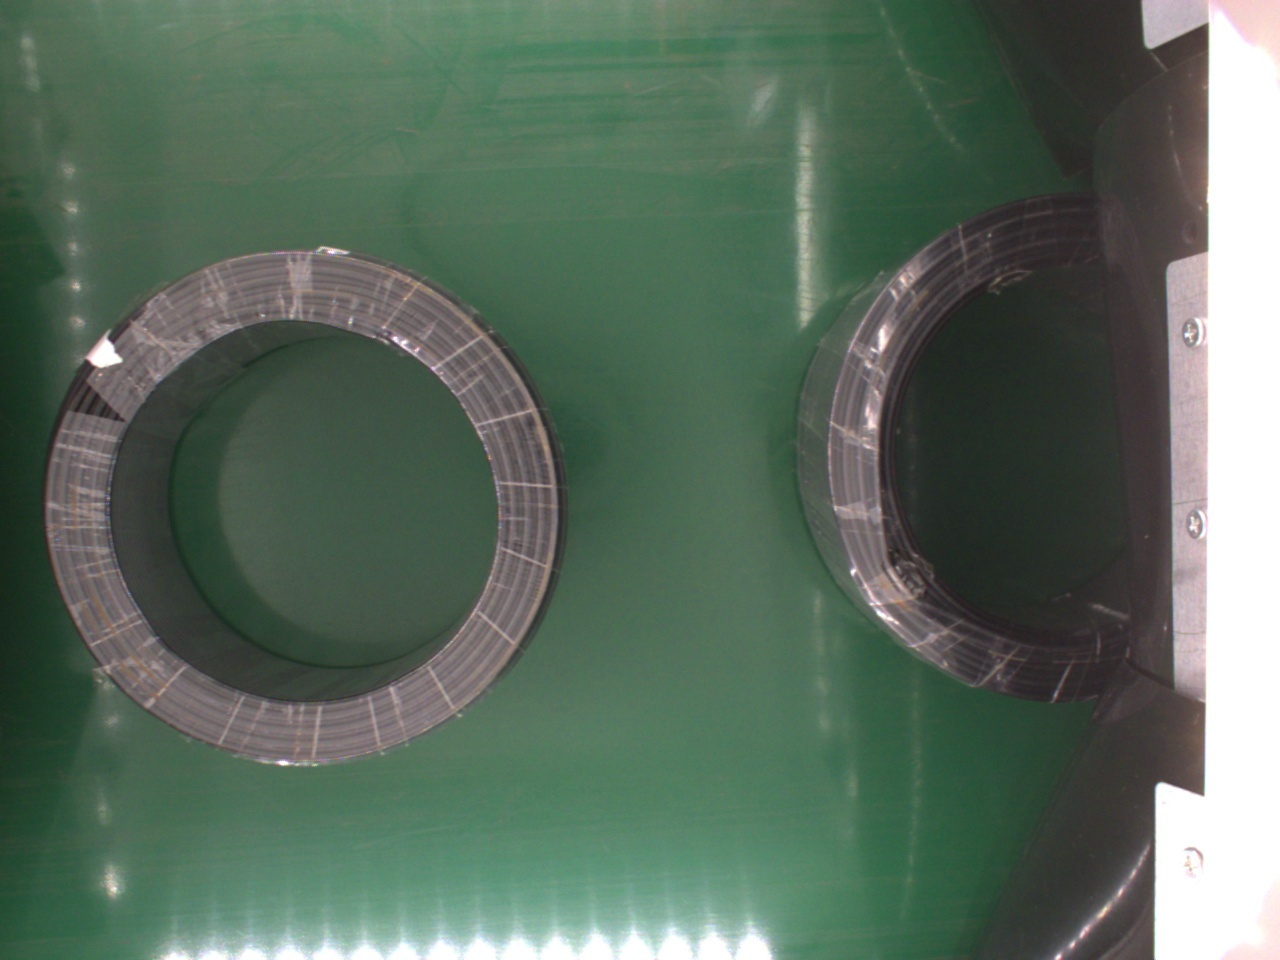black: (35, 256, 564, 765), (797, 193, 1133, 704)
